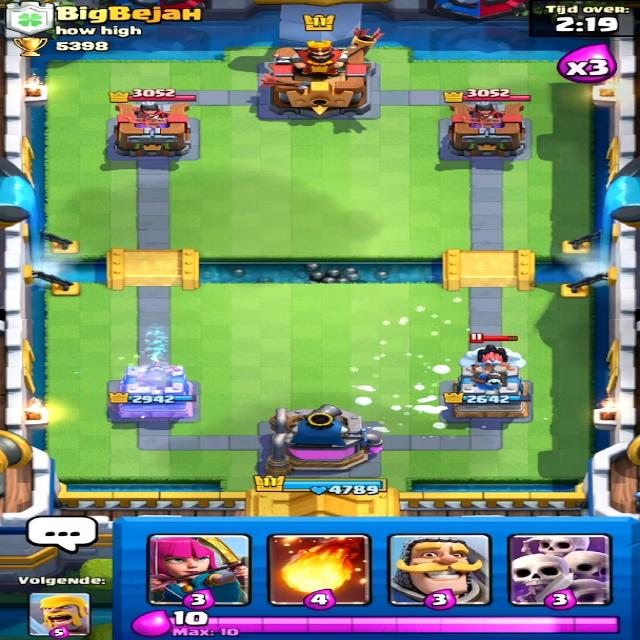Enemy_Ice_Golem_Troop: (459, 346, 536, 365)
Fireball_Card: (271, 534, 373, 605)
